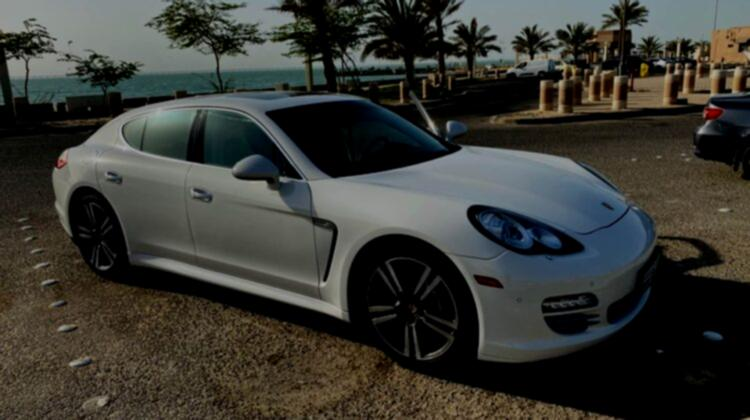porsche: (596, 196, 623, 215)
